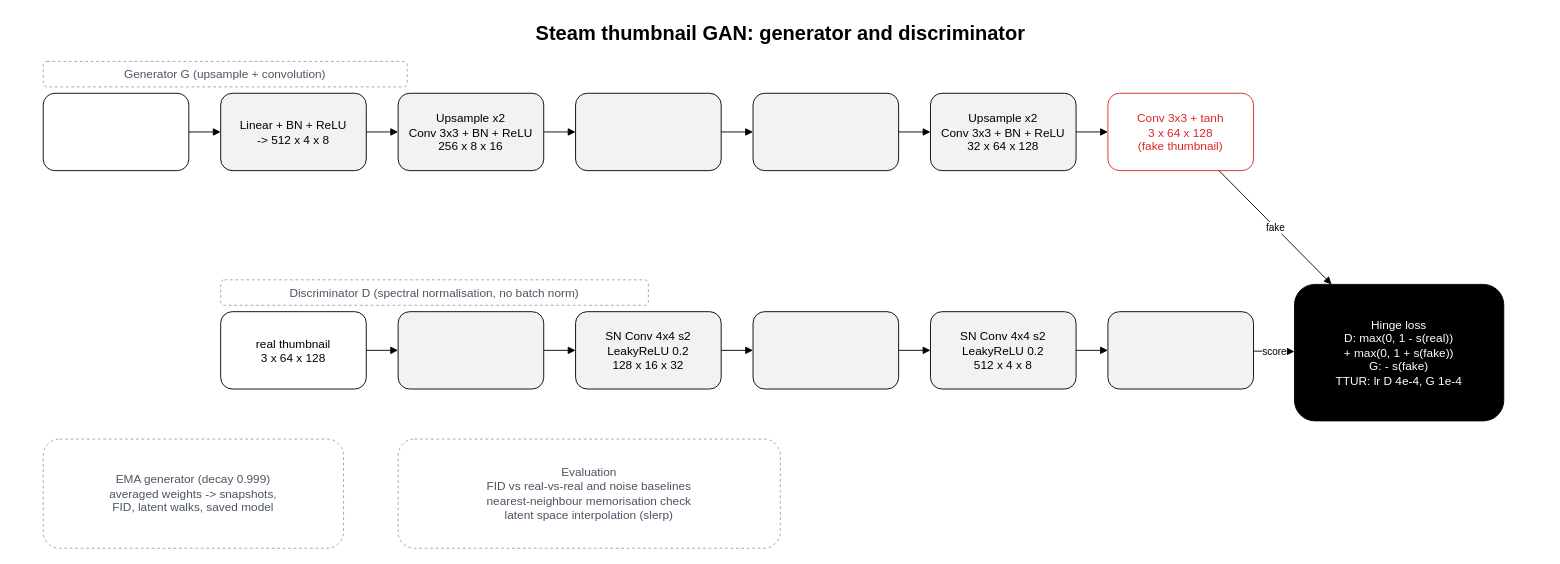
Some shapes in this 1560 by 564 pixel diagram are drawn without their labels. Here are the shapes that lost their labels. From the top down, the centre of each, then its label:
the point at 115,131: z ~ N(0, I) 128
the point at 648,131: Upsample x2 Conv 3x3 + BN + ReLU 128 x 16 x 32
the point at 825,131: Upsample x2 Conv 3x3 + BN + ReLU 64 x 32 x 64
the point at 470,350: SN Conv 4x4 s2 LeakyReLU 0.2 64 x 32 x 64
the point at 825,350: SN Conv 4x4 s2 LeakyReLU 0.2 256 x 8 x 16
the point at 1180,350: flatten SN Linear -> score s(x)
